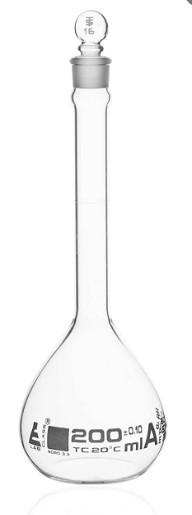Volumetric flask: (11, 12, 172, 486)
